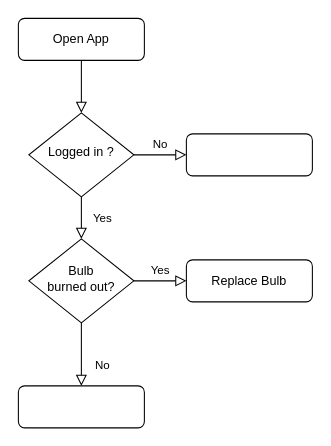
Image size: 331x446. Some labels were removed from this diagram. Here are the shapes that lost their labels. From the top down, the box of each, then its label:
(185, 133, 312, 176): Splash Screen
(17, 385, 144, 428): Repair Lamp
